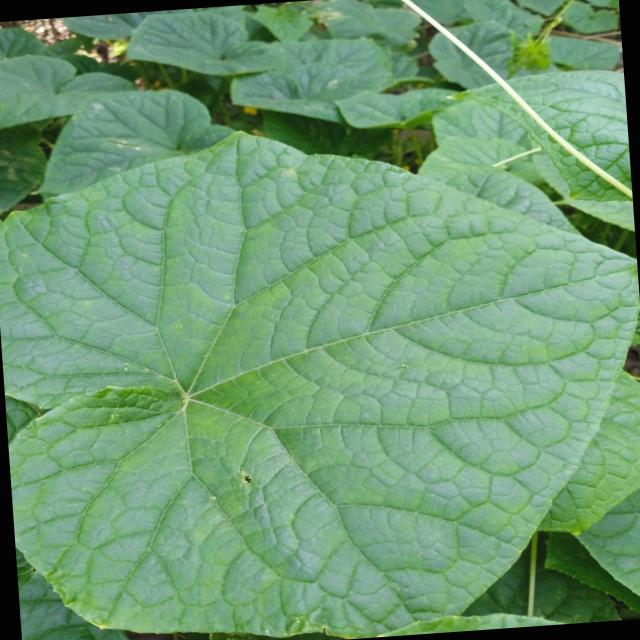cucumber_healthy: (0, 94, 640, 640), (443, 64, 635, 250)
